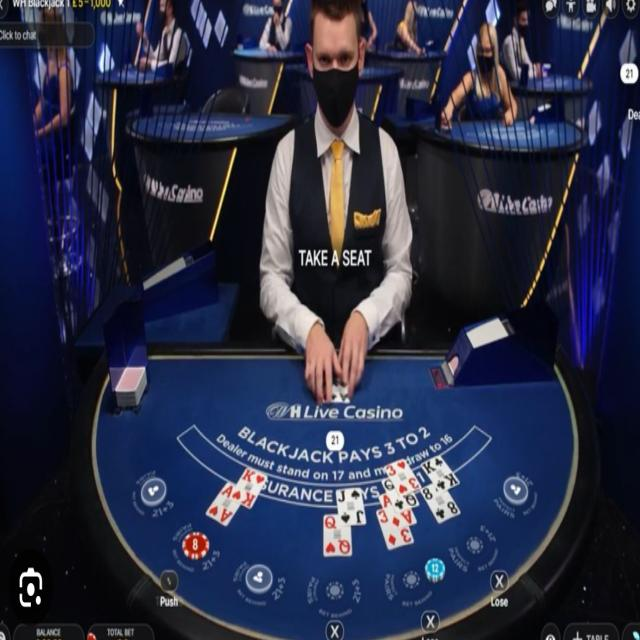Card-3: (376, 508, 414, 547), (384, 459, 421, 496)
Card-8: (420, 482, 461, 523)
Card-A: (206, 482, 241, 526), (379, 492, 417, 531), (327, 379, 350, 402)
Card-J: (337, 489, 366, 524)
Card-K: (232, 466, 268, 510), (421, 455, 459, 493)
Card-Q: (381, 477, 419, 512), (324, 514, 351, 554)
